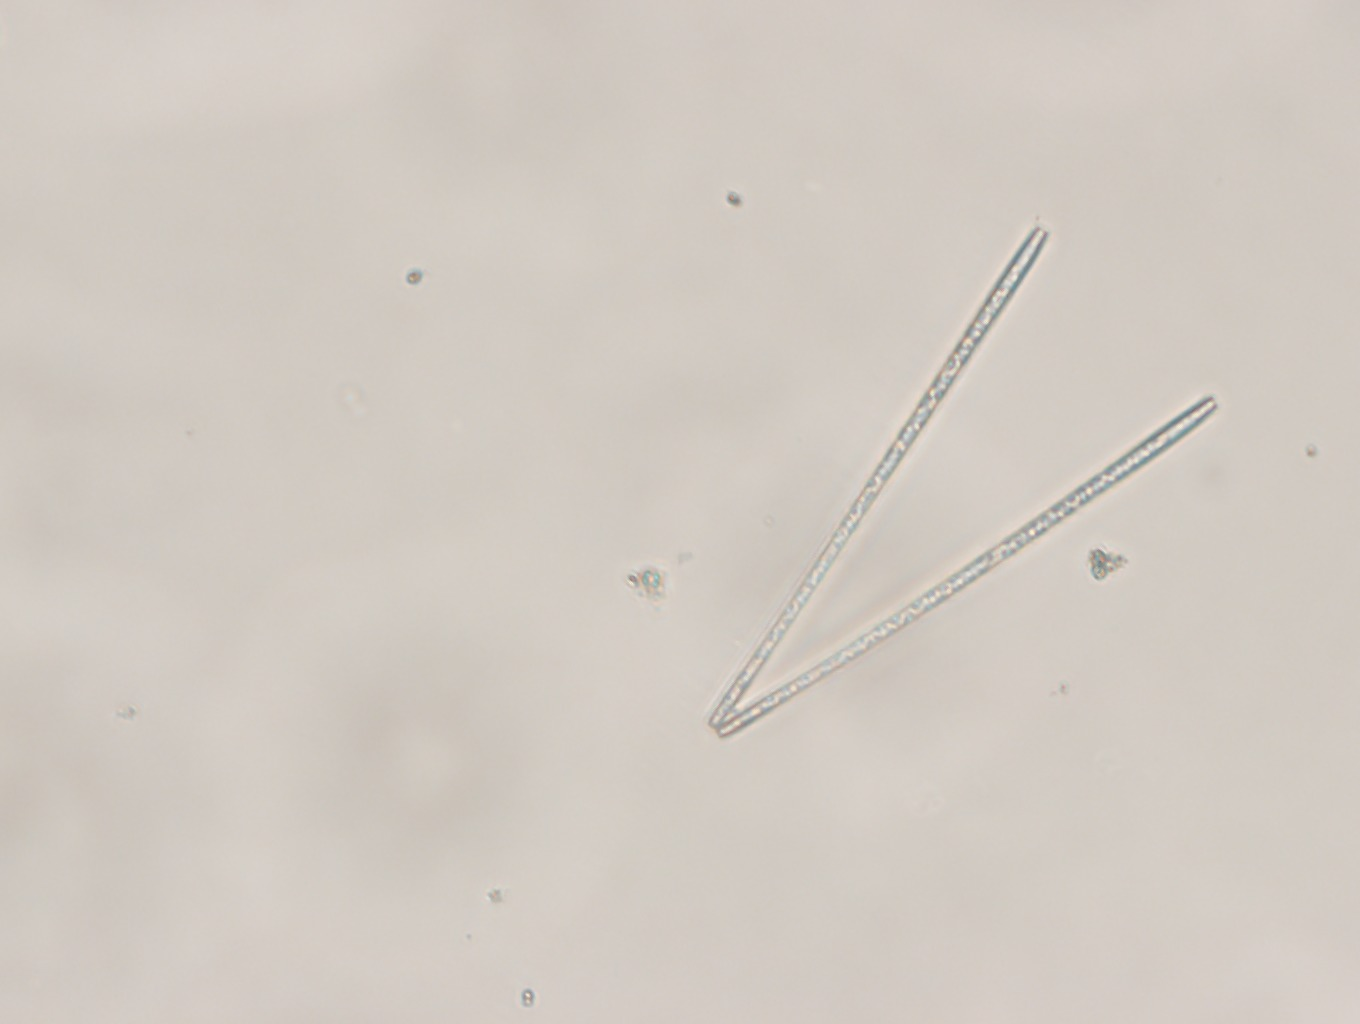thalassionema frauenfeldii: (705, 218, 1223, 745)
